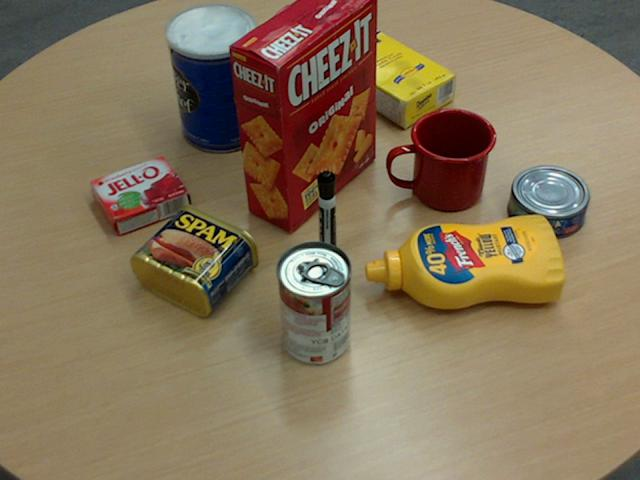cracker_box: (227, 0, 377, 231)
gelatin_box: (90, 154, 189, 234)
large_marker: (316, 171, 337, 265)
master_chef_can: (166, 3, 263, 152)
mug: (387, 107, 495, 210)
mustard_bottle: (364, 214, 564, 308)
potted_meat_can: (129, 202, 258, 315)
sugar_box: (309, 18, 456, 127)
tomato_soup_can: (274, 240, 350, 364)
tuna_fish_can: (507, 165, 588, 238)
